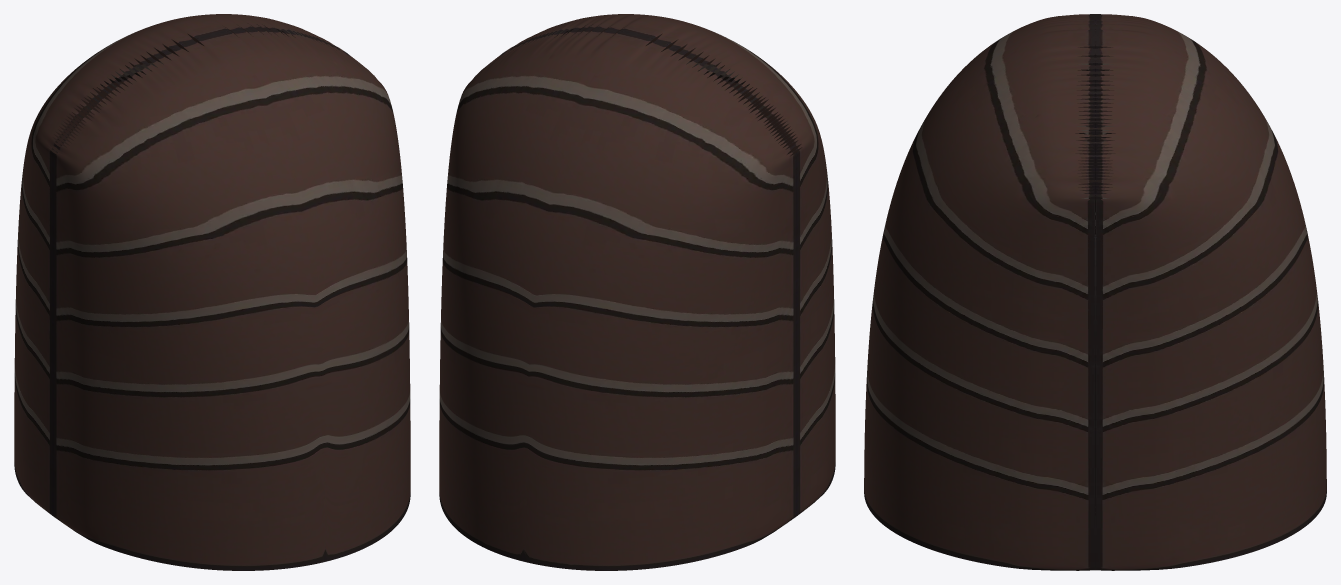
Rendered from bulkhead_panel.glb.
The picture shows the model from 3 angles, left to right: view 1: azimuth 30°, elevation 25°; view 2: azimuth 150°, elevation 25°; view 3: azimuth 270°, elevation 25°; orthographic projection. The views are drawn at different scales.
Visible parts, largest first — view 1: bulkhead_panel; view 2: bulkhead_panel; view 3: bulkhead_panel.
Part boxes in pixels (x1,y1,x2,y2): bulkhead_panel: [14, 14, 410, 570]; bulkhead_panel: [439, 14, 835, 570]; bulkhead_panel: [864, 14, 1326, 570].
Size of the model in its own units: 0.9854 by 1.31 by 1.21.
1 material, 1 textured.
